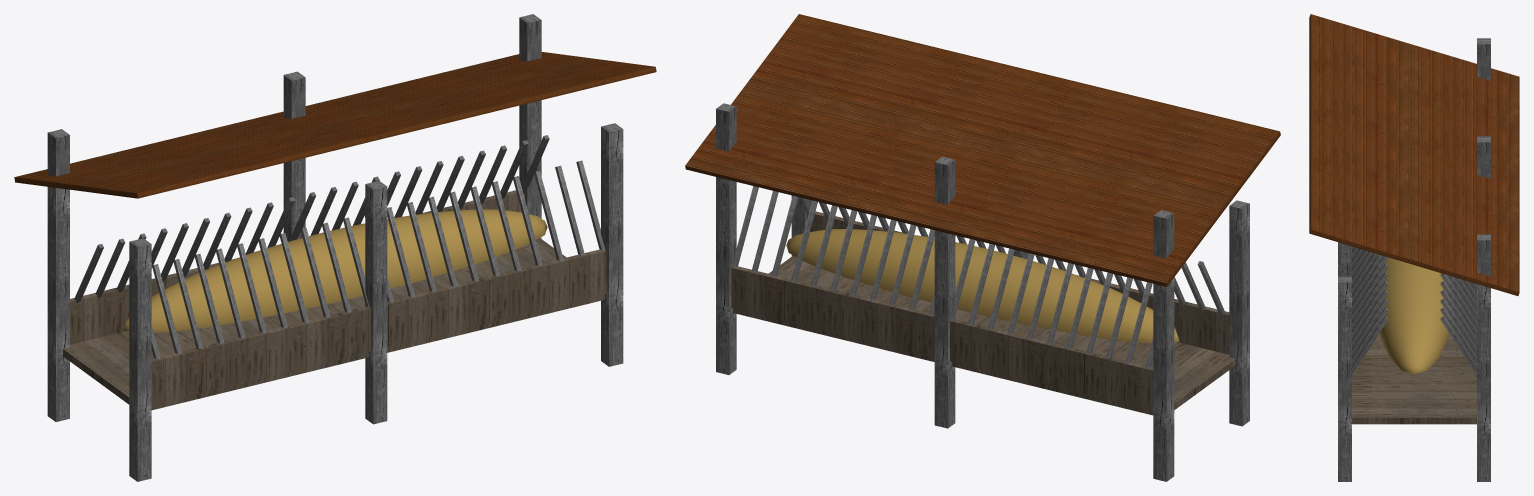
The model's file is comedero.glb.
3 views of the same model, side by side, from view 1: azimuth 30°, elevation 25°; view 2: azimuth 150°, elevation 25°; view 3: azimuth 270°, elevation 25° (orthographic). The views are drawn at different scales.
Size of the model in its own units: 4.4 by 2.47 by 1.82.
4 materials, 3 textured.
